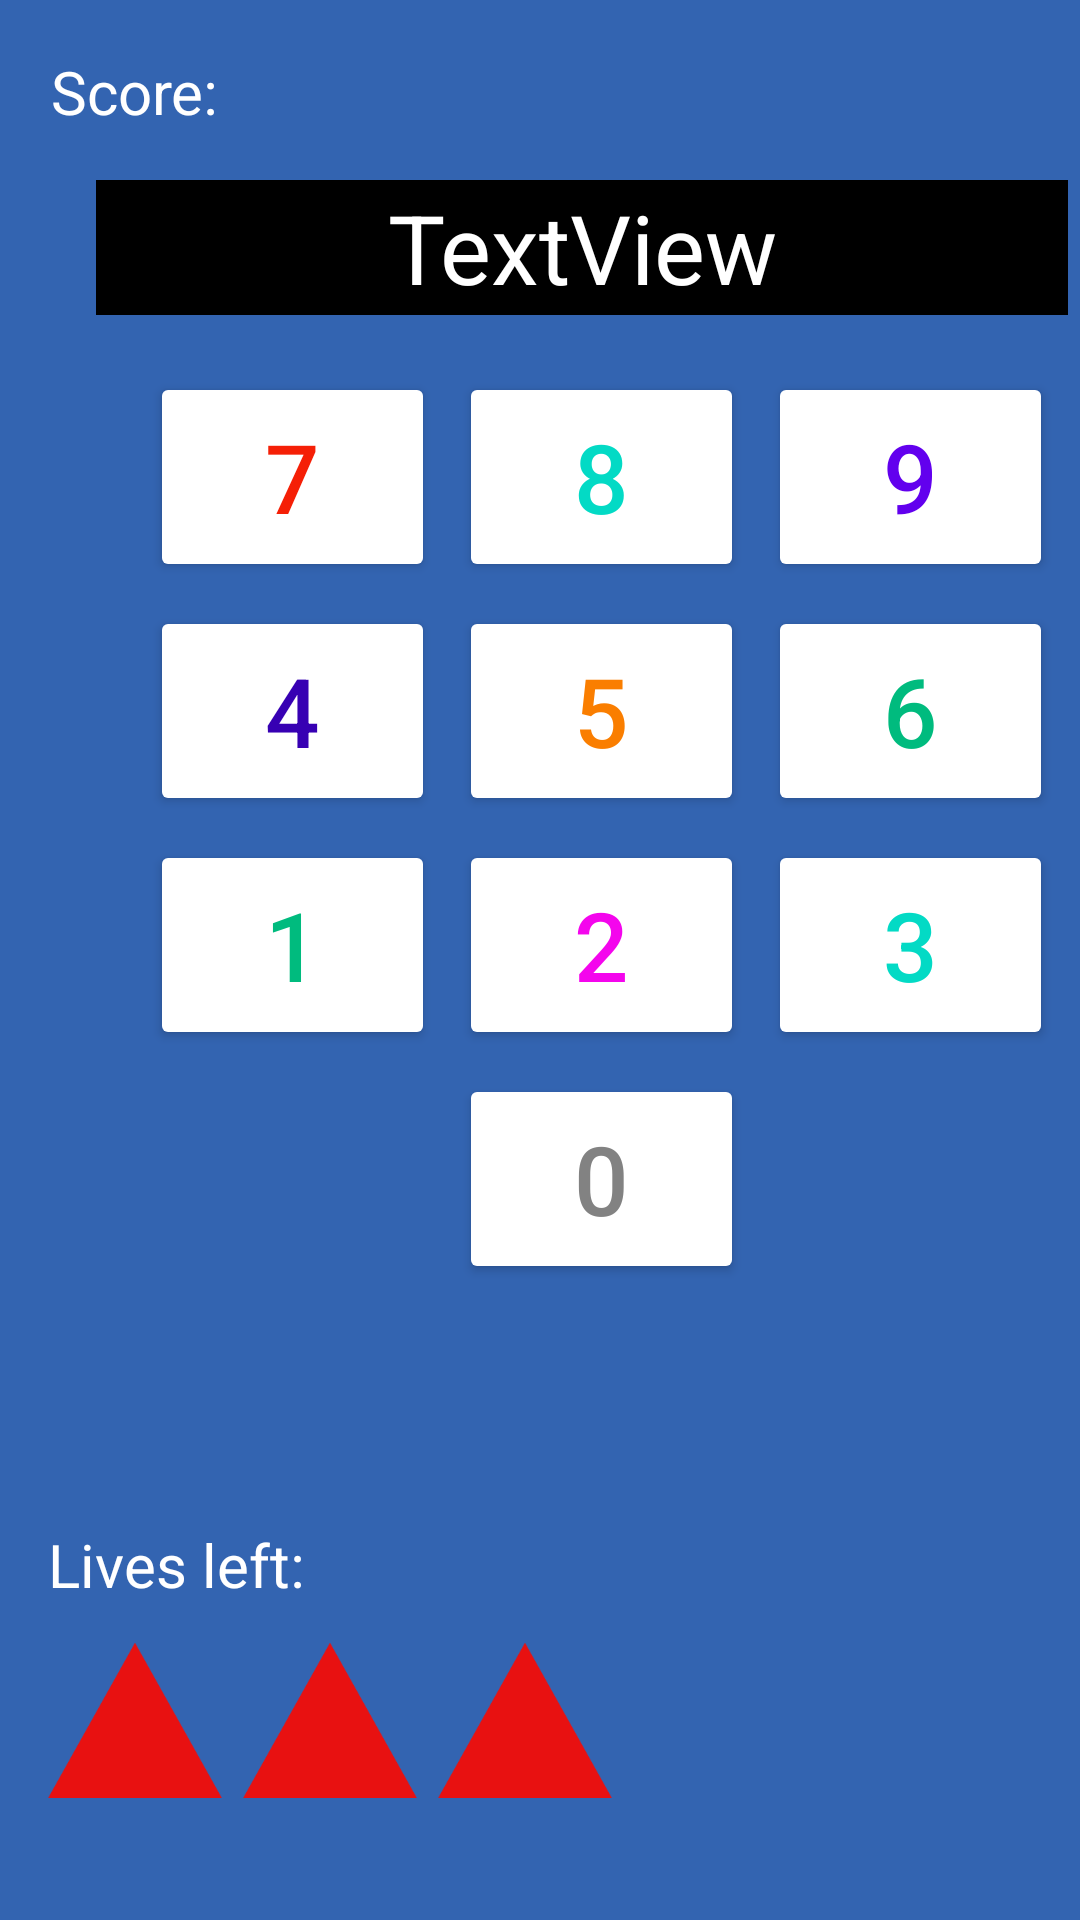

Locate icon controls on the screen. Image size 1080px×1920px, boxes as (x1,y1,x2,y2).
livetrig: (48,1643,222,1798), (243,1643,417,1798), (438,1643,612,1798)
